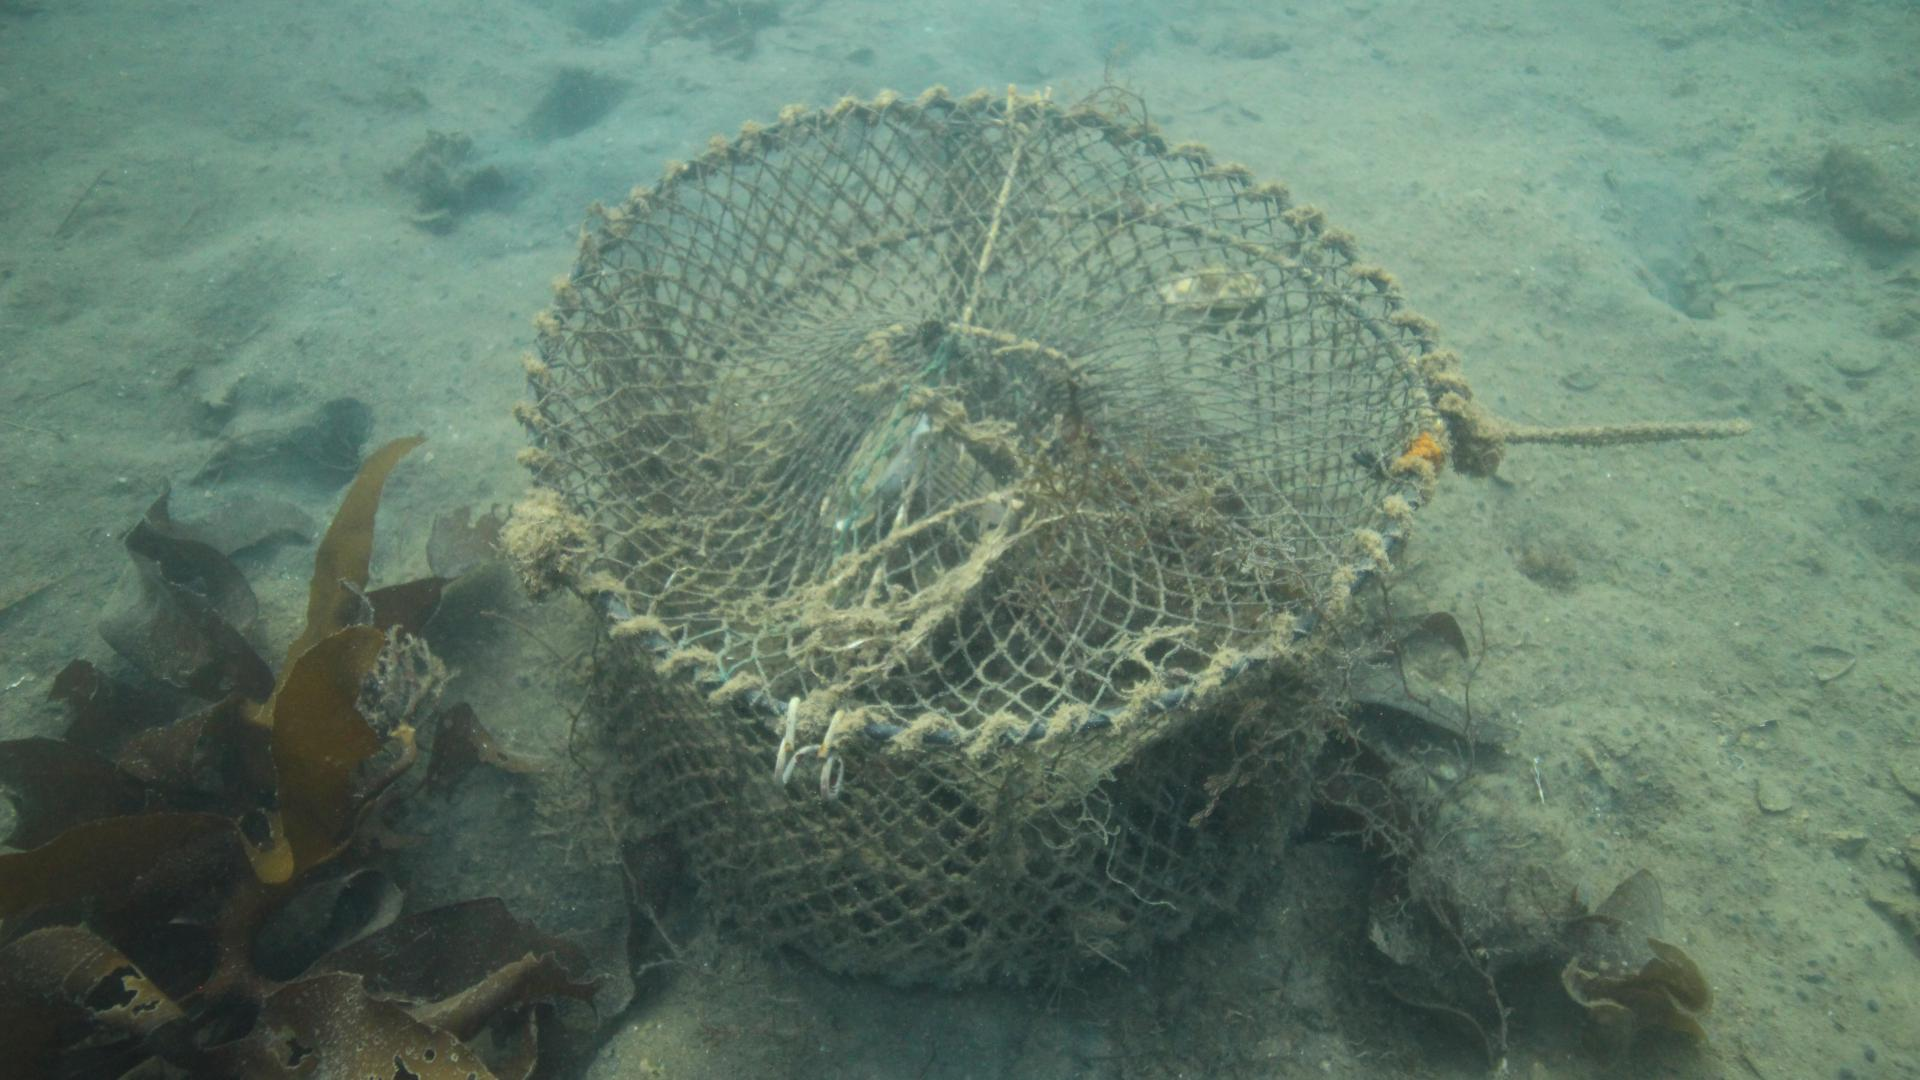circular fish trap: (517, 88, 1443, 992)
rope: (1503, 418, 1753, 450)
